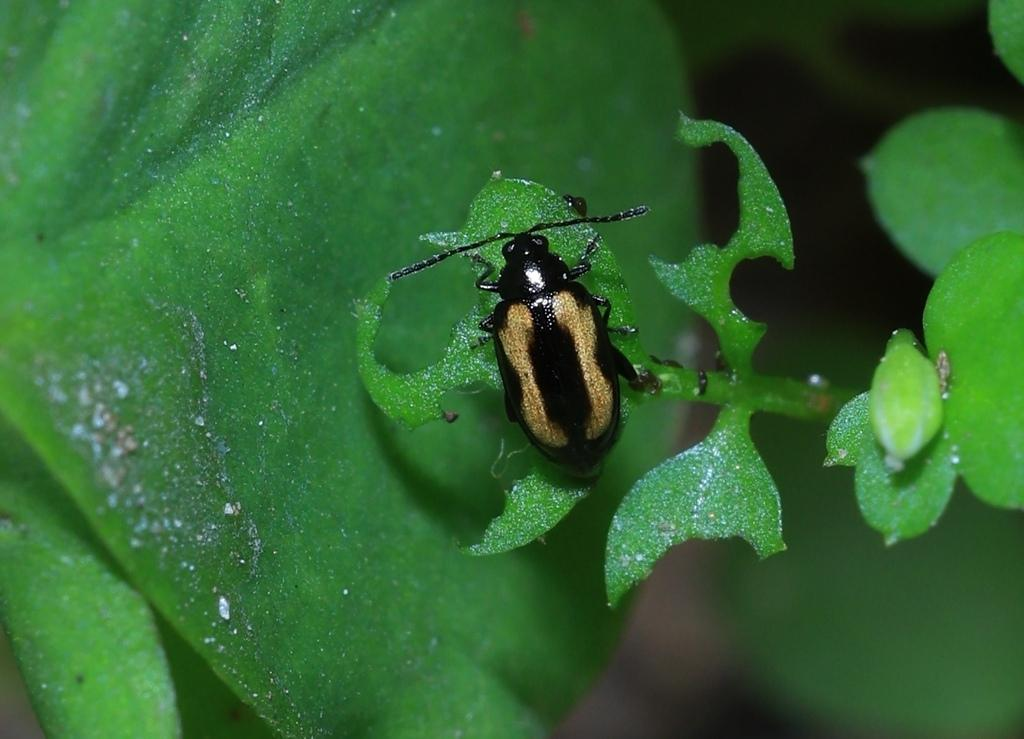flea_beetle: (368, 157, 703, 492)
